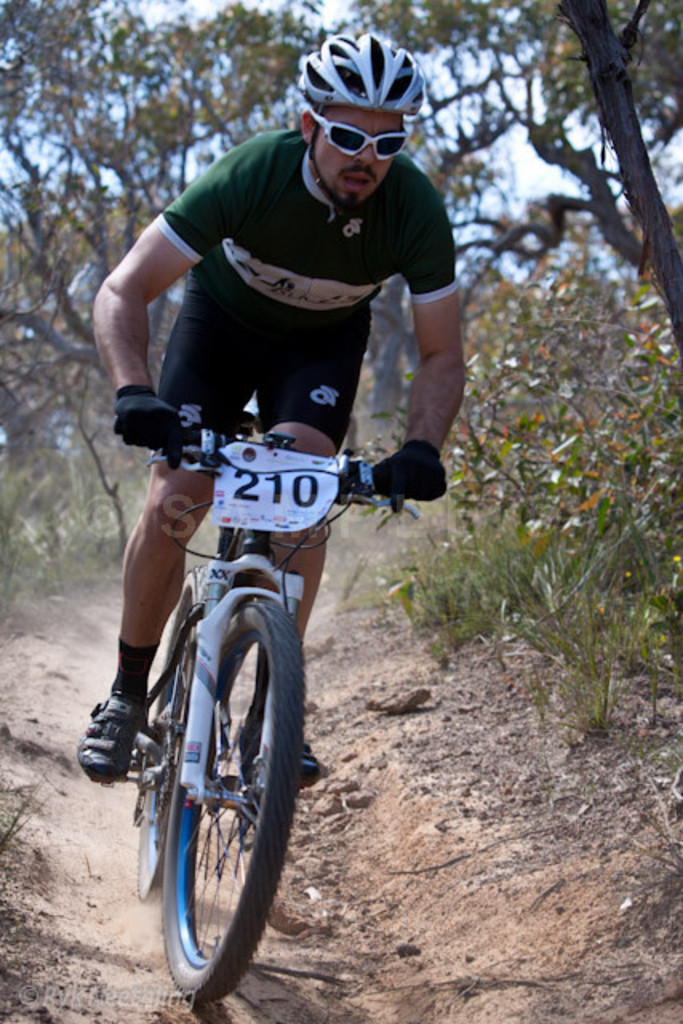Bike_toward: (82, 401, 368, 1024)
